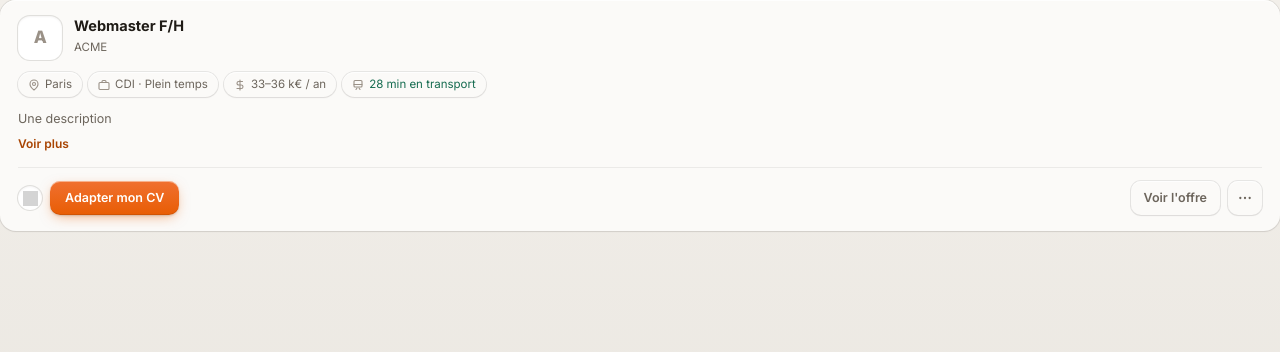
Scenario: JobCard › n'expose que deux actions, le reste dans le menu
expect the button with test id "job-adapt" is shown: met, box [50, 181, 180, 215]
expect the link "Voir l'offre" is shown: met, box [1131, 181, 1220, 215]
Click the button with test id "job-menu-toggle" at point(1245, 198), box [1228, 181, 1262, 215]
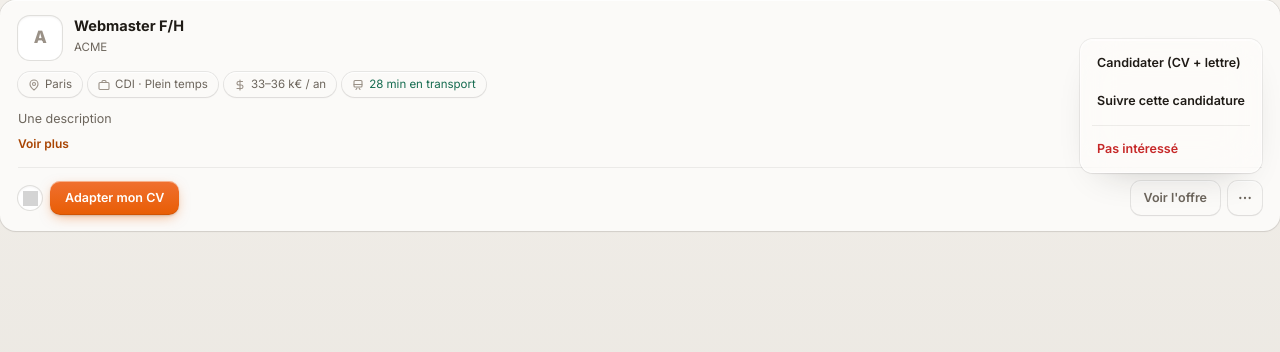
expect the button with test id "job-apply" is shown: met, box [1086, 45, 1256, 82]
expect the button with test id "job-track" is shown: met, box [1086, 83, 1256, 120]
expect the button with test id "job-dismiss" is shown: met, box [1086, 130, 1256, 167]
